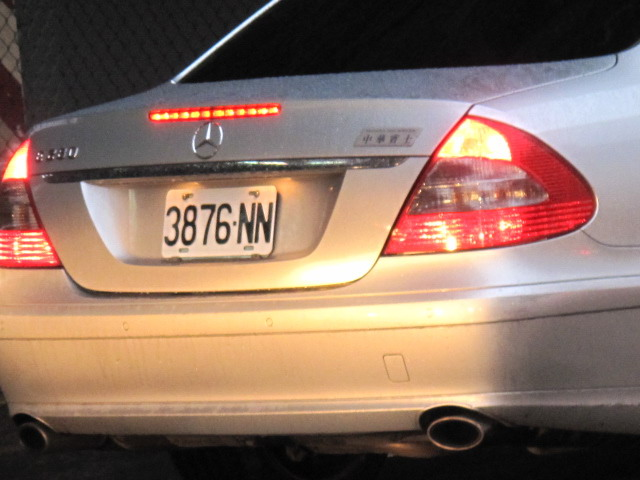plate: (157, 185, 285, 262)
